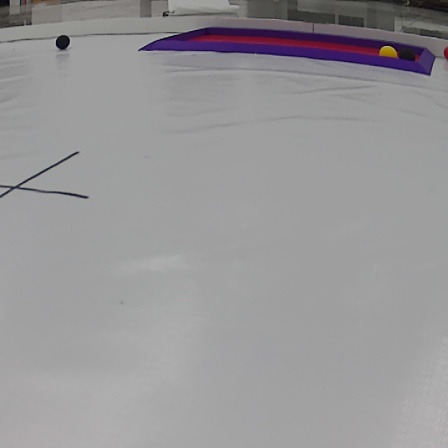black: (399, 47, 417, 63), (57, 35, 68, 50)
red_aim: (140, 28, 438, 79)
yellow: (379, 44, 397, 58)
